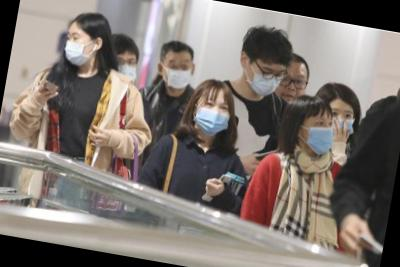with_mask: (191, 97, 234, 139), (243, 61, 287, 101), (303, 112, 339, 158), (61, 30, 96, 70), (162, 53, 196, 94), (326, 106, 357, 137), (113, 55, 141, 86)
without_mask: (273, 69, 310, 108)
